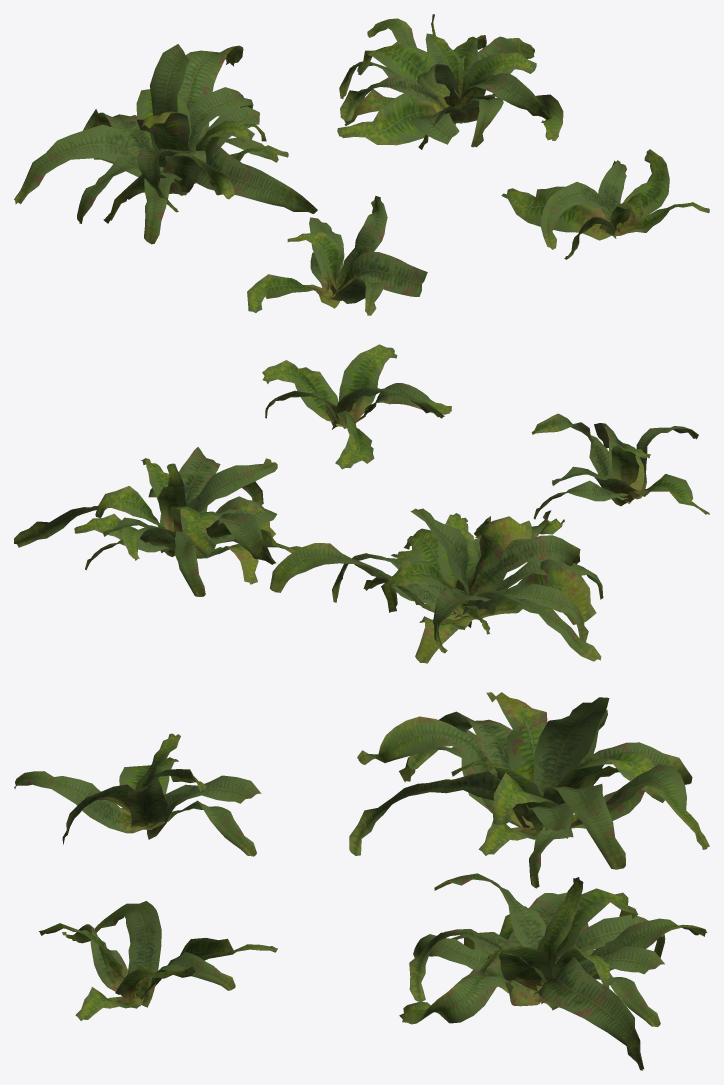
Rendered from fern_02.glb.
3 views of the same model, one above another, from view 1: azimuth 30°, elevation 25°; view 2: azimuth 150°, elevation 25°; view 3: azimuth 270°, elevation 25° (orthographic). The views are drawn at different scales.
Visible parts, largest first — view 1: fern_02_b, fern_02_c, fern_02_d, fern_02_a; view 2: fern_02_b, fern_02_c, fern_02_d, fern_02_a; view 3: fern_02_b, fern_02_c, fern_02_a, fern_02_d.
Boxes of the visible parts, x1=… form: fern_02_b: x1=14, y1=44, x2=317, y2=244; fern_02_c: x1=337, y1=14, x2=563, y2=149; fern_02_d: x1=501, y1=149, x2=709, y2=259; fern_02_a: x1=247, y1=196, x2=427, y2=315; fern_02_b: x1=270, y1=508, x2=603, y2=663; fern_02_c: x1=14, y1=447, x2=300, y2=596; fern_02_d: x1=262, y1=344, x2=451, y2=469; fern_02_a: x1=531, y1=413, x2=709, y2=519; fern_02_b: x1=349, y1=692, x2=709, y2=888; fern_02_c: x1=399, y1=873, x2=707, y2=1070; fern_02_a: x1=14, y1=733, x2=261, y2=856; fern_02_d: x1=39, y1=901, x2=277, y2=1020.
Size of the model in its own units: 1.97 by 0.4277 by 1.72.
Materials: 1 (1 with a texture image).
